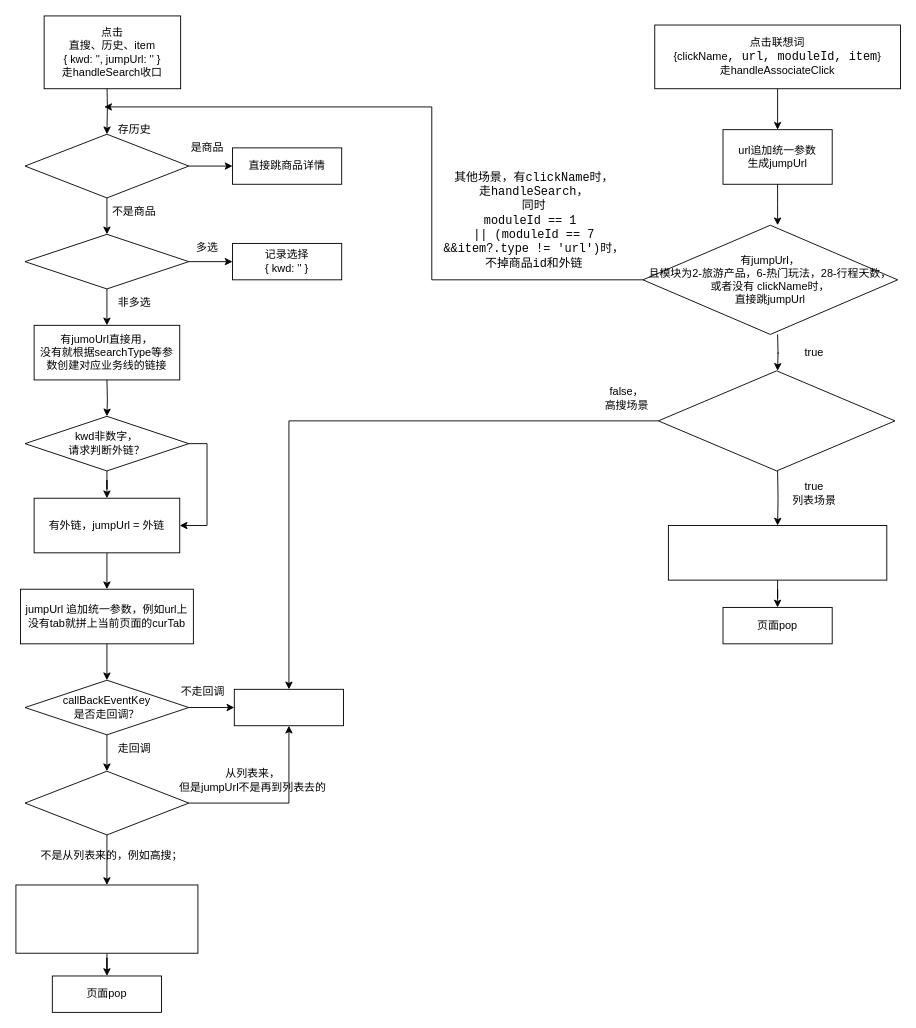
This 916x1028 diagram has some shape labels left out. The centre of each missing label's shape, as x and y in pixels:
"isFromList 从列表来的，但jumpUrl不是再到列表去" goes at (106,802).
"sendEvent(callBackEventKey, {url, type } ) 回调回去，参数加type='pageReload'" goes at (777,552).
"sendEvent(callBackEventKey, {url,kwd} ) 回调回去，如果是列表来的，参数加type='pageReload'" goes at (106,918).
"如果kwd是数字， 请求判断是否为商品？" goes at (106,165).
"是否为多选？" goes at (106,261).
"有callBackEventKey， 且 从列表来的，jumpUrl也是到列表去的" goes at (776,420).
"跳转jumpUrl" goes at (288,707).
